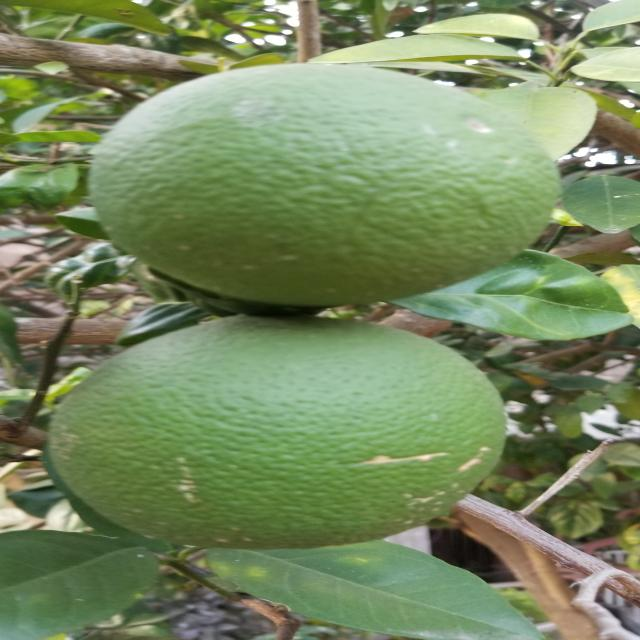Unripe: (92, 60, 555, 316), (39, 311, 513, 552)
